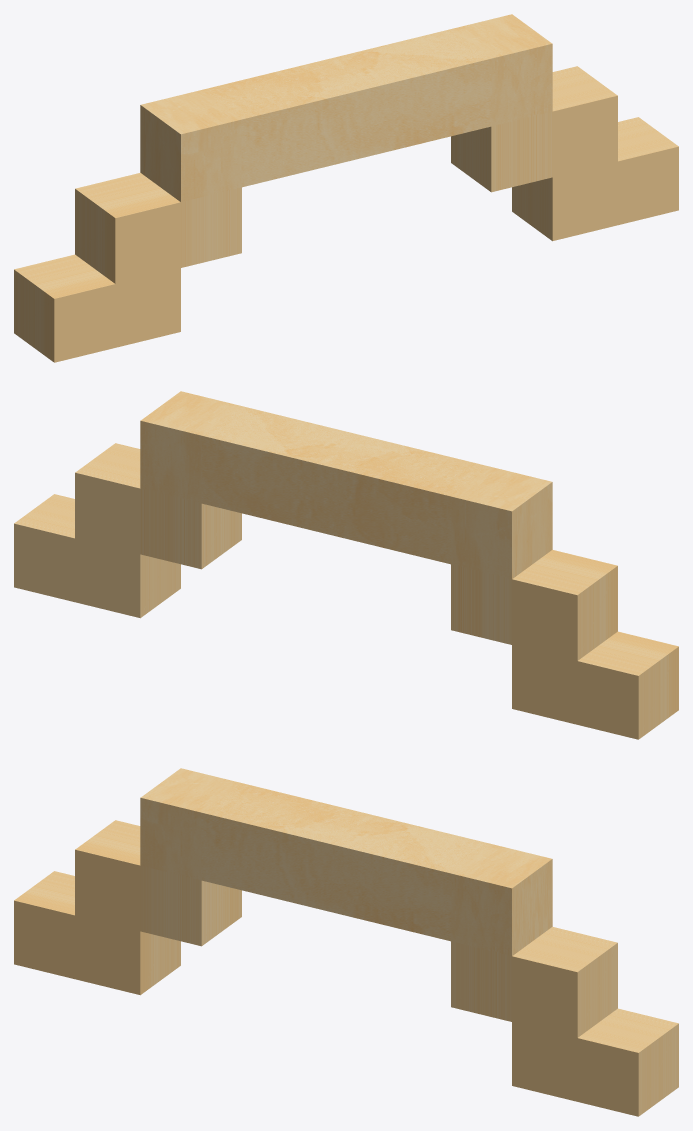
Rendered from WIGGLE01.fbx.
The picture shows the model from 3 angles, top to bottom: view 1: azimuth 30°, elevation 25°; view 2: azimuth 150°, elevation 25°; view 3: azimuth 330°, elevation 25°; orthographic projection.
Parts seen in each view (by area): view 1: pCube1; view 2: pCube1; view 3: pCube1.
Boxes of the visible parts, bbox=[...] form: pCube1: bbox=[14, 14, 678, 362]; pCube1: bbox=[14, 391, 678, 739]; pCube1: bbox=[14, 768, 678, 1116].
Size of the model in its own units: 15.01 by 4.53 by 1.68.
1 material, 1 textured.
